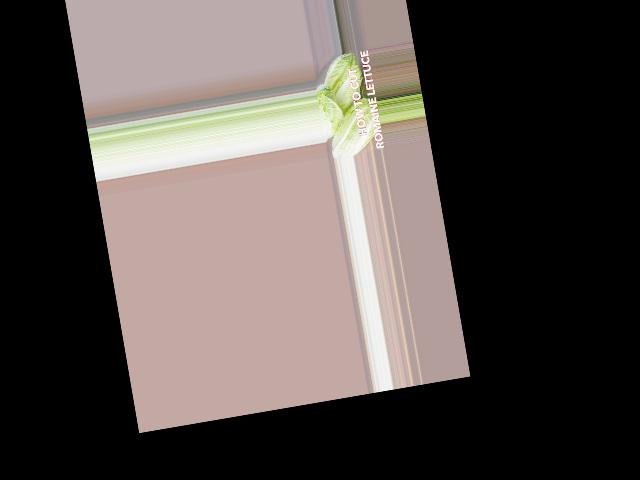lettuce: (315, 48, 373, 120)
